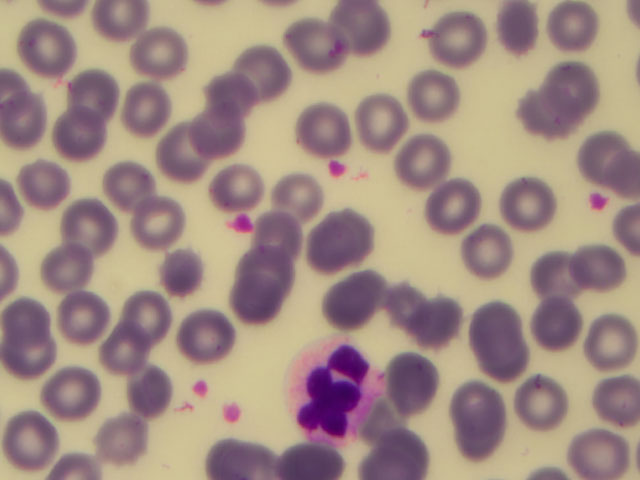Platelets: (216, 210, 256, 236), (216, 399, 250, 423), (324, 156, 356, 180), (184, 374, 208, 400), (588, 187, 615, 210)
RBC: (16, 22, 74, 78), (60, 59, 118, 115), (54, 112, 112, 168), (115, 81, 173, 137), (131, 28, 189, 84), (194, 106, 252, 162), (163, 121, 221, 177), (114, 159, 172, 215), (121, 191, 179, 247), (55, 197, 113, 253), (13, 154, 71, 210), (35, 238, 93, 294), (43, 289, 101, 345), (91, 320, 149, 376), (127, 293, 185, 349), (173, 315, 231, 371), (117, 365, 175, 421), (86, 407, 144, 463), (32, 359, 90, 415), (13, 327, 71, 383), (6, 412, 64, 468), (226, 273, 284, 329), (245, 247, 303, 303), (152, 242, 210, 298), (256, 204, 314, 260), (273, 173, 331, 229), (218, 148, 276, 204), (207, 62, 265, 118), (241, 40, 299, 96), (287, 15, 345, 71), (343, 91, 401, 147), (302, 94, 360, 150), (405, 69, 463, 125), (437, 18, 495, 74), (491, 5, 549, 61), (541, 3, 599, 59), (545, 54, 603, 110), (525, 93, 583, 149), (392, 138, 450, 194), (421, 180, 479, 236), (456, 221, 514, 277), (502, 181, 560, 237), (409, 295, 467, 351), (387, 283, 445, 339), (330, 274, 388, 330), (469, 296, 527, 352), (480, 337, 538, 393), (531, 307, 589, 363), (538, 253, 596, 309), (570, 241, 628, 297), (581, 319, 639, 375), (582, 376, 640, 432), (570, 423, 628, 479), (459, 392, 517, 448), (377, 424, 435, 480), (210, 424, 268, 480), (582, 126, 640, 182), (108, 1, 166, 56), (336, 1, 394, 56)
WBC: (289, 338, 388, 440)
